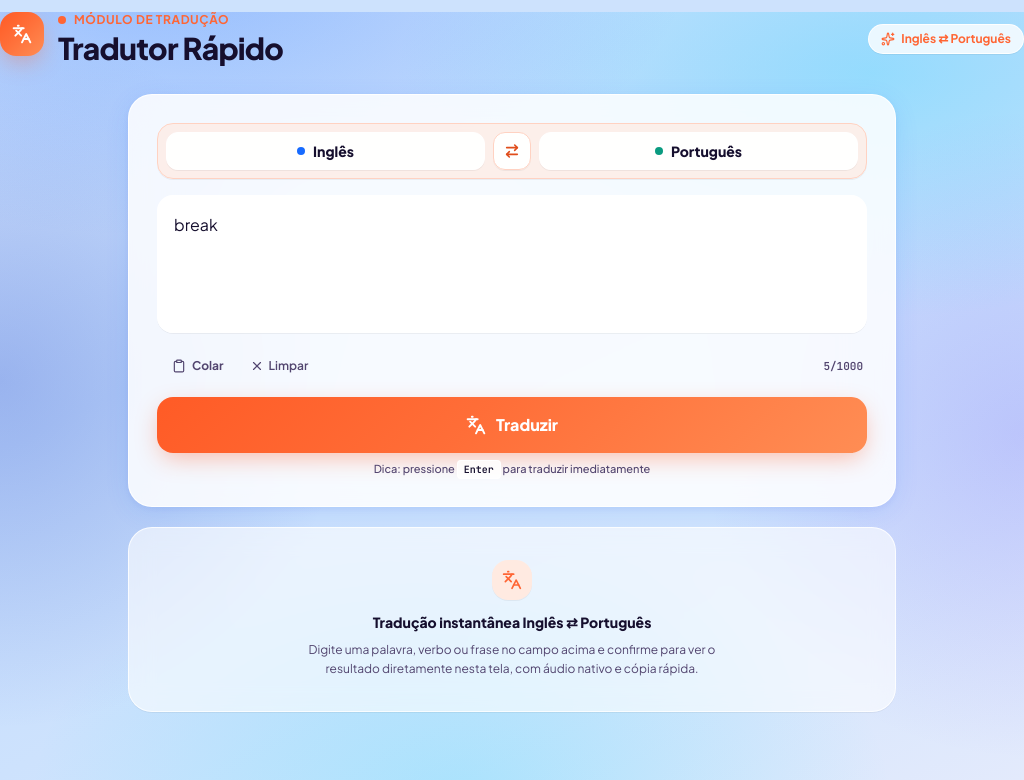
Scenario: QuickTranslatorView Component Tests › clears input text and result when clicking Limpar
Click the button "Traduzir".
click(512, 425)  # box [157,397,867,453]
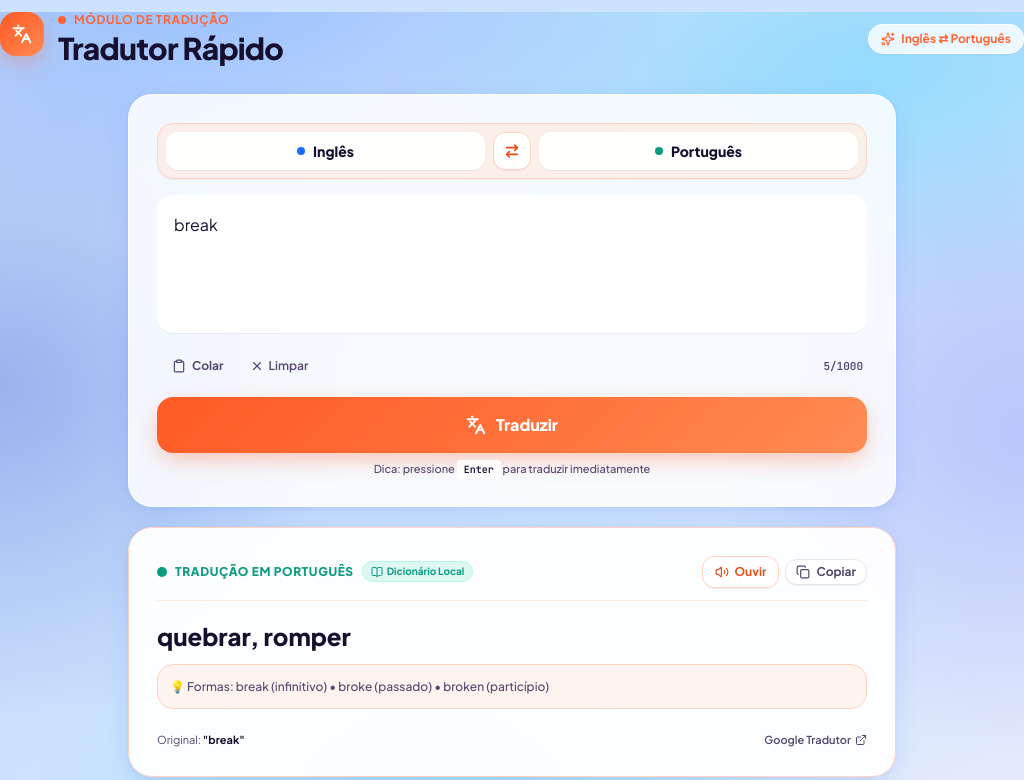
Check: the text "Tradução em Português" is shown, box [175,564,354,580]
Click the button titled "Limpar campo".
click(279, 366)  # box [242,354,316,378]
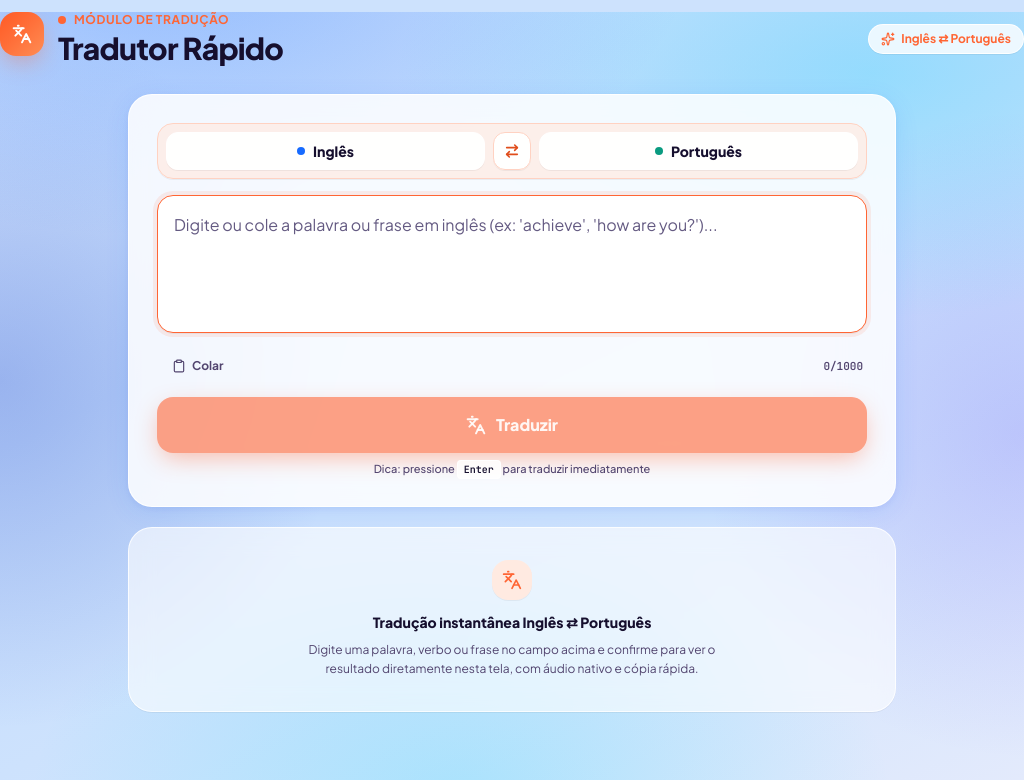
Check: the text box with placeholder "Digite ou cole a palavra ou frase" is empty, box [157,195,867,333]
Check: the text "Tradução em Português" is gone
